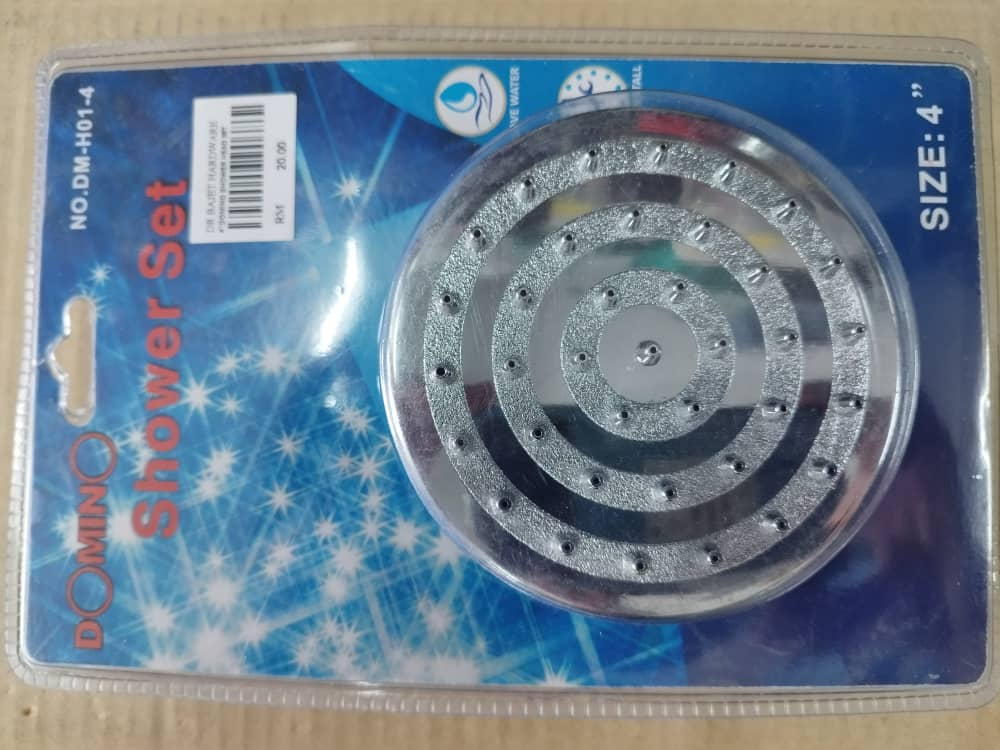sku_shower_head_s4: (329, 85, 947, 654)
